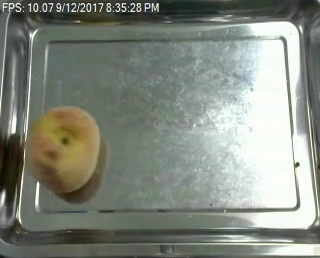Peach: (24, 105, 102, 194)
